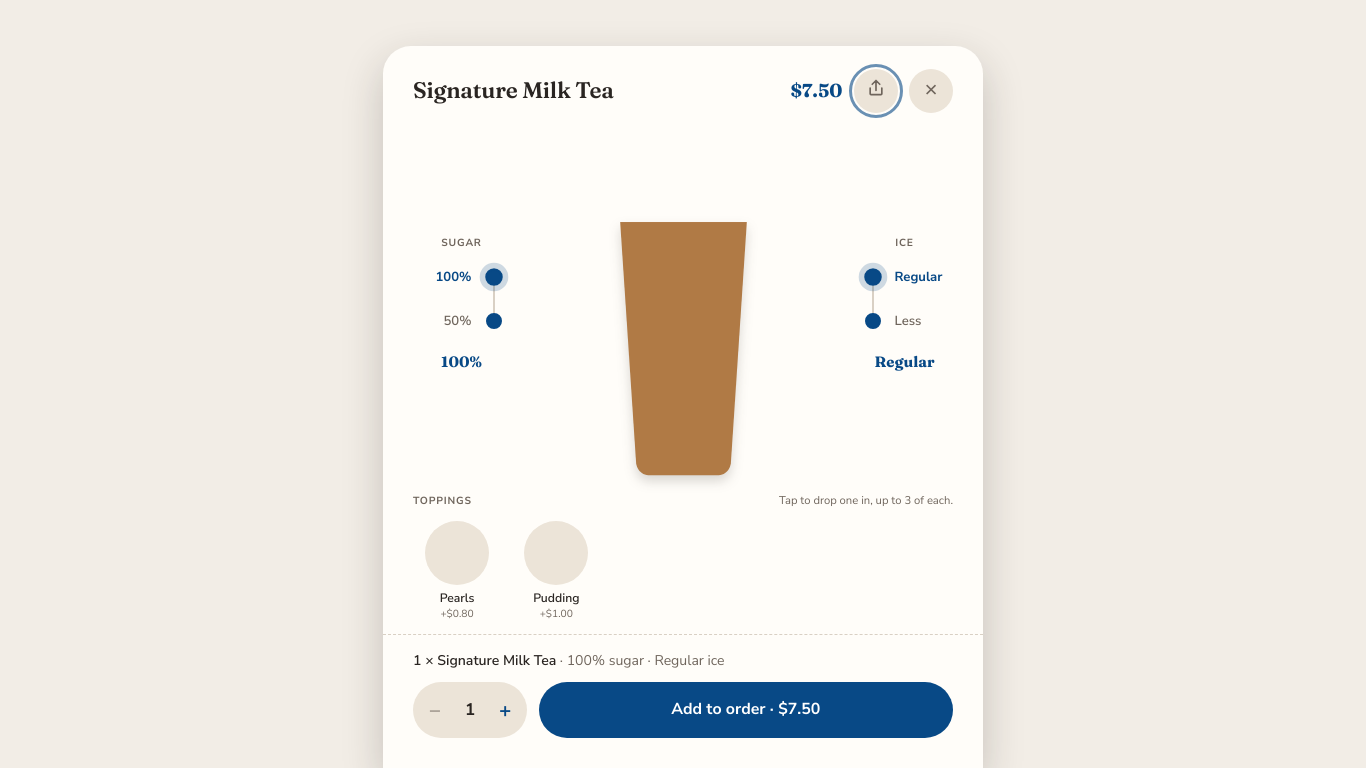
CustomiseDrinkDialog › more than one of a topping › takes one lot away with the minus, and hides it at zero
Step 1. Click the button with aria-label "Add Pearls" → (457, 570), box [413,517,501,622]
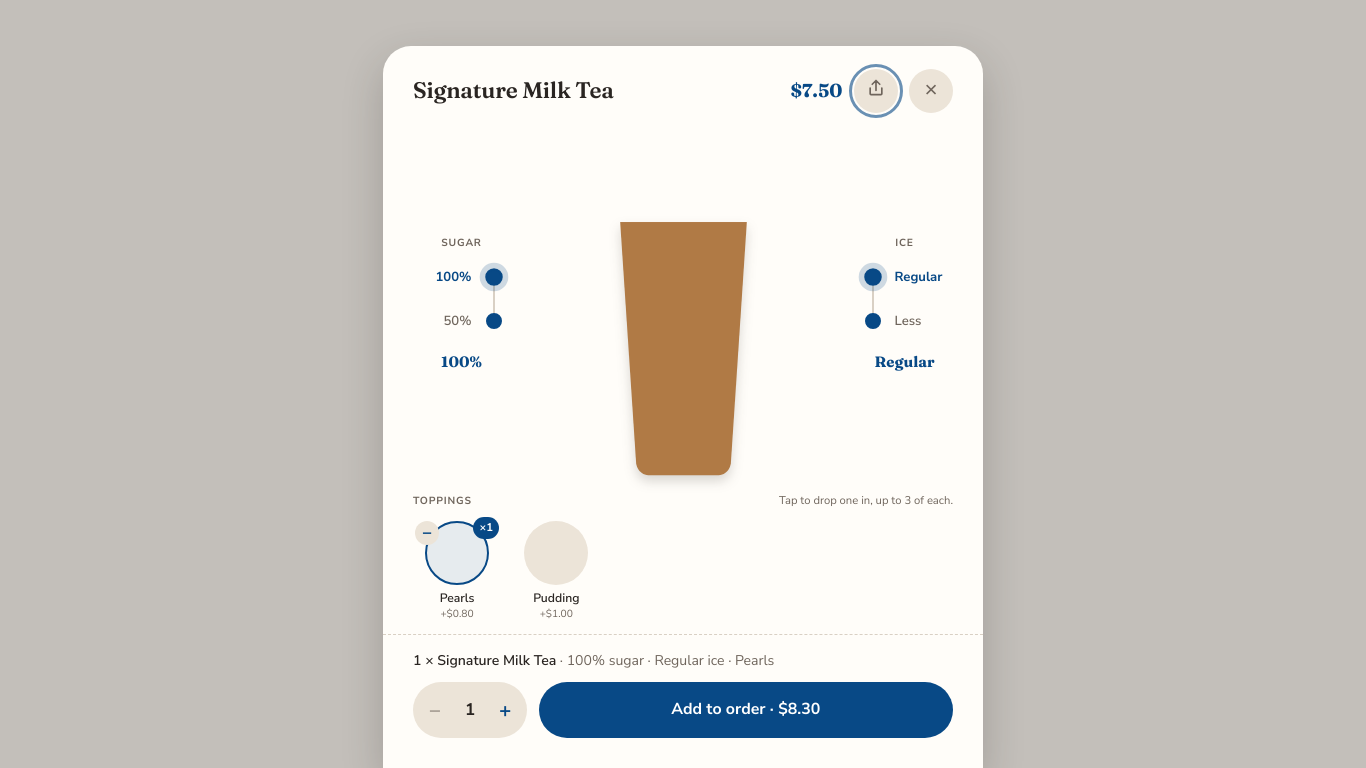
Step 2. Click the button with aria-label "Add Pearls" → (457, 570), box [413,517,501,622]
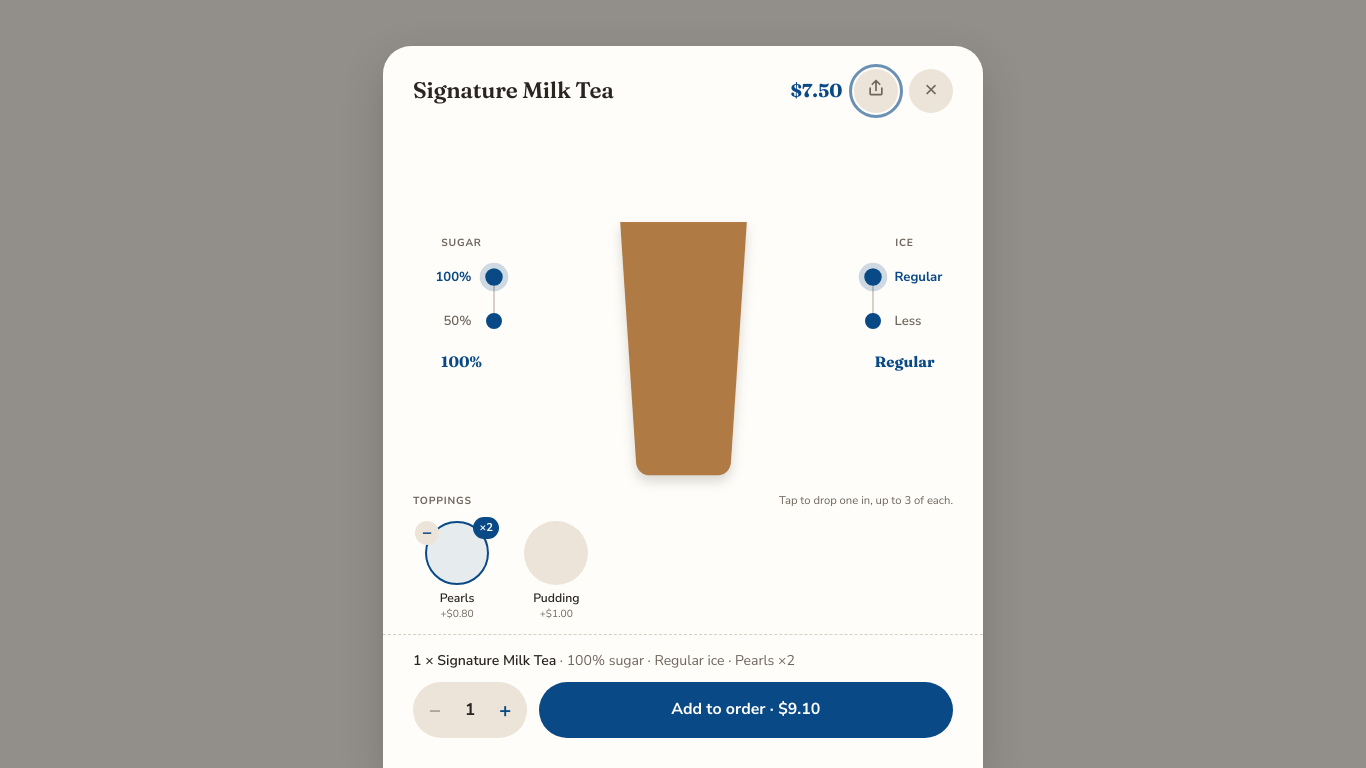
Step 3. Click the button named "Remove one Pearls" → (427, 533), box [405,511,449,555]
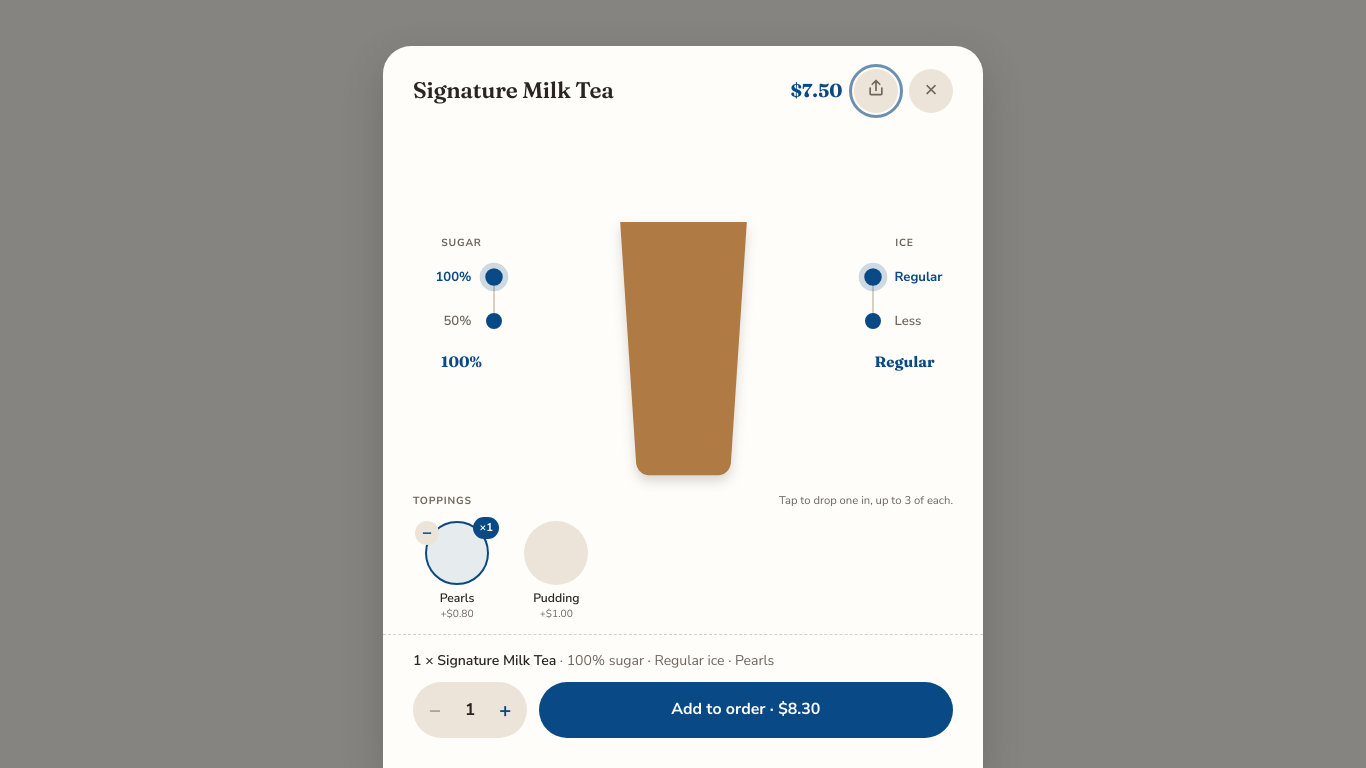
expect the button "Add to order · $8.30" is shown: met, box [538,682,953,738]
Step 4. Click the button named "Remove one Pearls" → (427, 533), box [405,511,449,555]
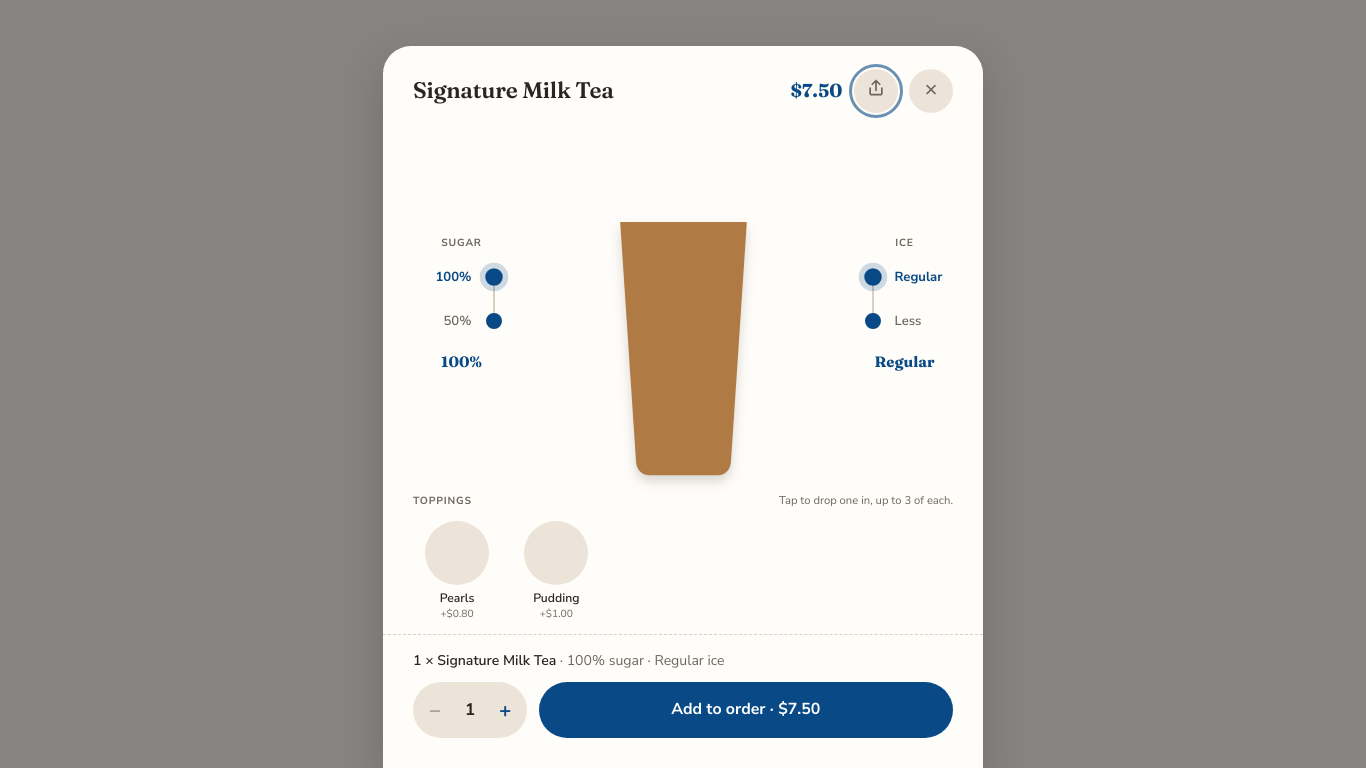
expect the button "Add to order · $7.50" is shown: met, box [538,682,953,738]
